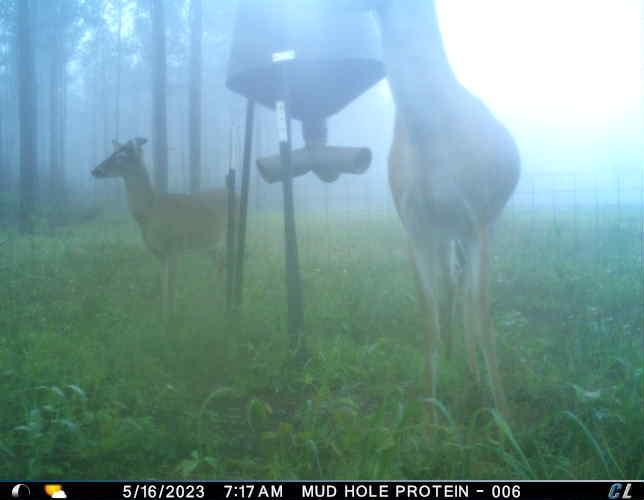Deer: (342, 0, 523, 437), (87, 137, 242, 323)
